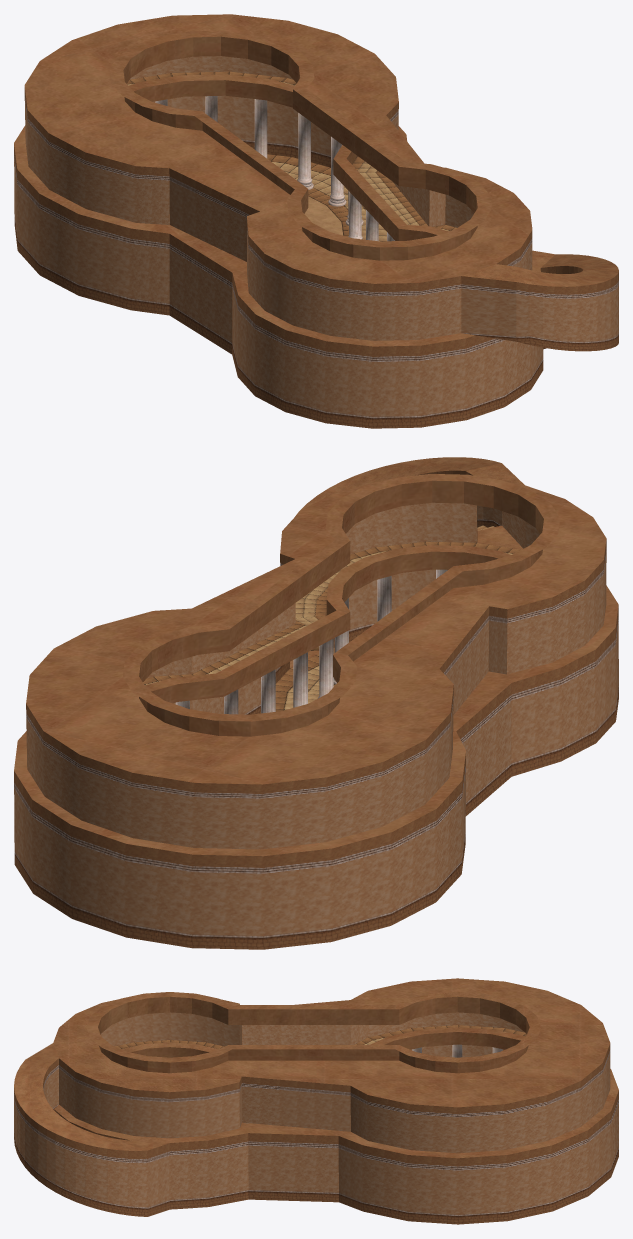
Rendered from palais5.dae.
3 renders of one model, top to bottom at view 1: azimuth 30°, elevation 25°; view 2: azimuth 150°, elevation 25°; view 3: azimuth 270°, elevation 25°, orthographic. The views are drawn at different scales.
Visible parts, largest first — view 1: mursRDC, plafondEtage, mursEtage, toit, mursEscalier, rambarde, plafondRDC, plafond_escalier, solEtage, solRDC, colonne50, sol (+2 smaller); view 2: mursRDC, plafondEtage, mursEtage, toit, rambarde, plafondRDC, solEtage, plafond_escalier, solRDC, mursEscalier, escalier, colonne57 (+1 smaller); view 3: mursEtage, mursRDC, plafondEtage, toit, mursEscalier, plafondRDC, plafond_escalier, rambarde, solEtage.
Part boxes in pixels (x1,y1,x2,y2): mursRDC: [14, 95, 543, 428]; plafondEtage: [24, 14, 532, 283]; mursEtage: [24, 56, 532, 340]; toit: [109, 30, 491, 260]; mursEscalier: [461, 266, 618, 351]; rambarde: [128, 74, 448, 240]; plafondRDC: [14, 125, 540, 346]; plafond_escalier: [462, 250, 618, 286]; solEtage: [127, 71, 456, 231]; solRDC: [267, 154, 386, 241]; colonne50: [297, 113, 313, 189]; sol: [304, 196, 343, 235]; mursRDC: [14, 569, 618, 949]; plafondEtage: [26, 481, 606, 784]; mursEtage: [26, 502, 606, 849]; toit: [123, 474, 560, 736]; rambarde: [145, 545, 510, 703]; plafondRDC: [14, 585, 618, 856]; solEtage: [143, 541, 520, 685]; plafond_escalier: [295, 457, 524, 516]; solRDC: [275, 647, 335, 711]; mursEscalier: [415, 470, 525, 548]; escalier: [290, 525, 523, 668]; colonne57: [317, 638, 333, 698]; mursEtage: [59, 1012, 610, 1153]; mursRDC: [53, 1045, 618, 1224]; plafondEtage: [53, 978, 610, 1107]; toit: [86, 992, 541, 1073]; mursEscalier: [14, 1058, 147, 1216]; plafondRDC: [54, 1069, 618, 1158]; plafond_escalier: [14, 1043, 169, 1150]; rambarde: [121, 1027, 525, 1057]; solEtage: [115, 1025, 526, 1048].
Size of the model in its own units: 44.82 by 20.47 by 84.08.
Materials: 7 (7 with a texture image).
